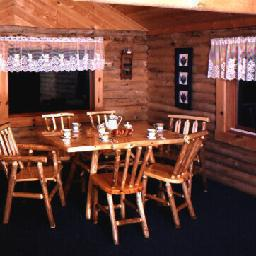Ventana: (4, 42, 101, 114), (220, 41, 255, 147)
